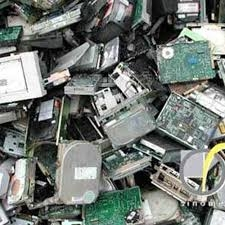metal: (146, 89, 219, 151), (92, 93, 163, 151), (49, 134, 104, 208), (153, 36, 217, 85), (1, 46, 49, 105), (173, 145, 225, 197), (144, 158, 200, 206), (100, 144, 159, 182), (5, 154, 42, 208), (92, 34, 135, 70), (60, 67, 105, 99)
